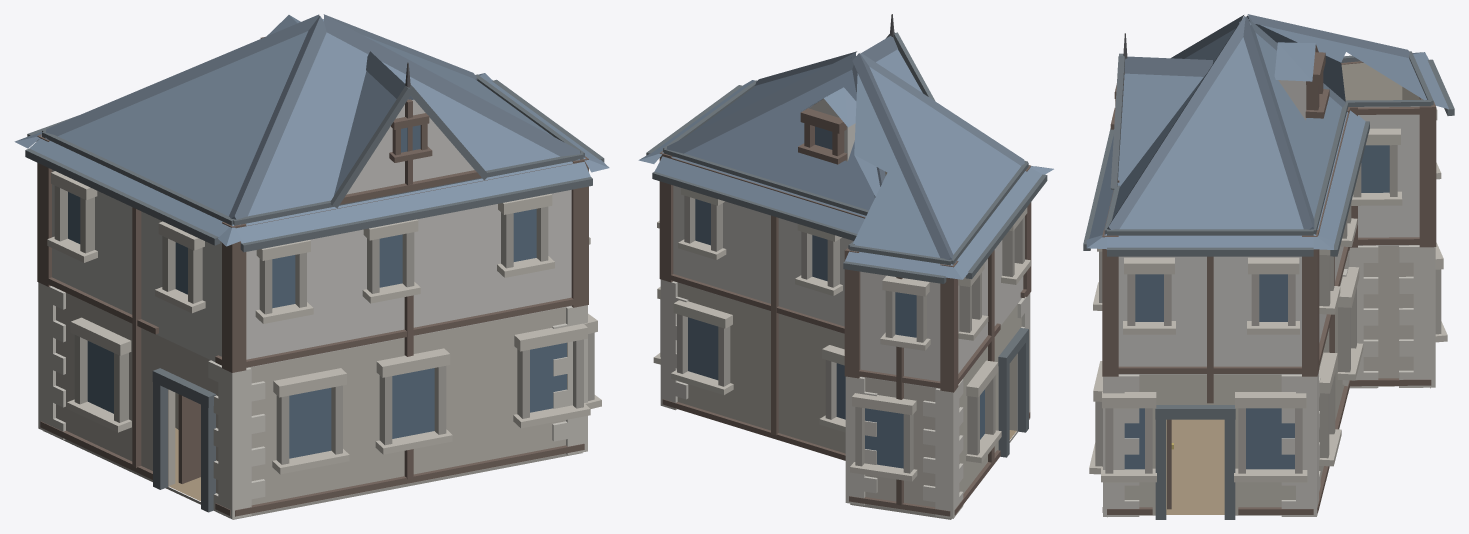
3 views of the same model, side by side, from view 1: azimuth 30°, elevation 25°; view 2: azimuth 150°, elevation 25°; view 3: azimuth 270°, elevation 25° (orthographic). The views are drawn at different scales.
Parts seen in each view (by area): view 1: B055_visible; view 2: B055_visible; view 3: B055_visible.
Boxes of the visible parts, bbox=[...] form: B055_visible: bbox=[14, 14, 609, 519]; B055_visible: bbox=[638, 14, 1053, 519]; B055_visible: bbox=[1083, 14, 1454, 519].
Size of the model in its own units: 9.69 by 9.44 by 7.65.
